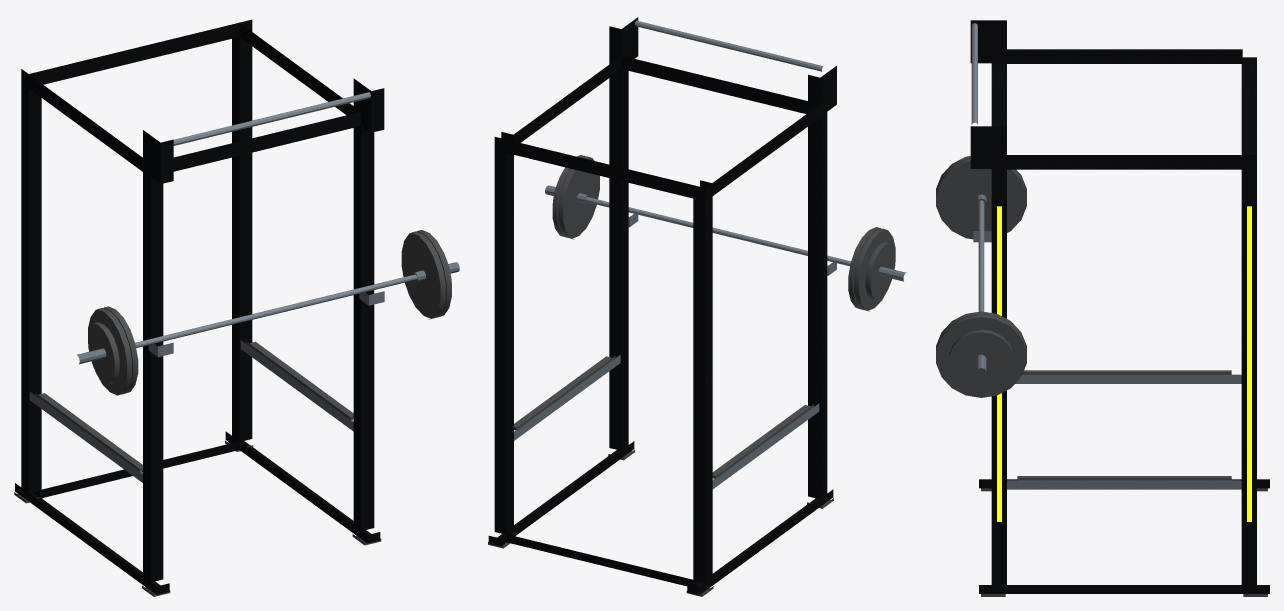
The model's file is tt_gym_squat_rack.glb.
3 renders of one model, left to right at view 1: azimuth 30°, elevation 25°; view 2: azimuth 150°, elevation 25°; view 3: azimuth 270°, elevation 25°, orthographic. The views are drawn at different scales.
Visible parts, largest first — view 1: Rack_Frame, Bumper_Plates, Safety_Arms, Safety_Pads, Barbell, Pullup_Bar; view 2: Rack_Frame, Bumper_Plates, Safety_Arms, Safety_Pads, Barbell, Pullup_Bar; view 3: Rack_Frame, Bumper_Plates, Safety_Arms, Hole_Strips_LED, Safety_Pads, Barbell, Pullup_Bar.
Part boxes in pixels (left/top/right/bottom): Rack_Frame: left=15, top=19, right=384, bottom=594; Bumper_Plates: left=88, top=230, right=451, bottom=395; Safety_Arms: left=29, top=340, right=353, bottom=482; Safety_Pads: left=35, top=341, right=353, bottom=471; Barbell: left=135, top=274, right=417, bottom=347; Pullup_Bar: left=173, top=92, right=370, bottom=145; Rack_Frame: left=488, top=17, right=836, bottom=594; Bumper_Plates: left=552, top=155, right=895, bottom=311; Safety_Arms: left=514, top=355, right=819, bottom=489; Safety_Pads: left=514, top=356, right=813, bottom=478; Barbell: left=585, top=197, right=850, bottom=266; Pullup_Bar: left=635, top=20, right=823, bottom=71; Rack_Frame: left=970, top=20, right=1269, bottom=593; Bumper_Plates: left=936, top=156, right=1026, bottom=397; Safety_Arms: left=1007, top=374, right=1241, bottom=489; Hole_Strips_LED: left=997, top=206, right=1251, bottom=521; Safety_Pads: left=1017, top=370, right=1231, bottom=480; Barbell: left=978, top=200, right=984, bottom=311; Pullup_Bar: left=971, top=23, right=977, bottom=124.
Size of what is drawn, in the model's own units: 2.2 by 2.53 by 1.63.
Materials: 5 (3 with a texture image).
